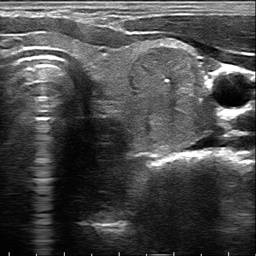mass: (130, 46, 212, 154)
